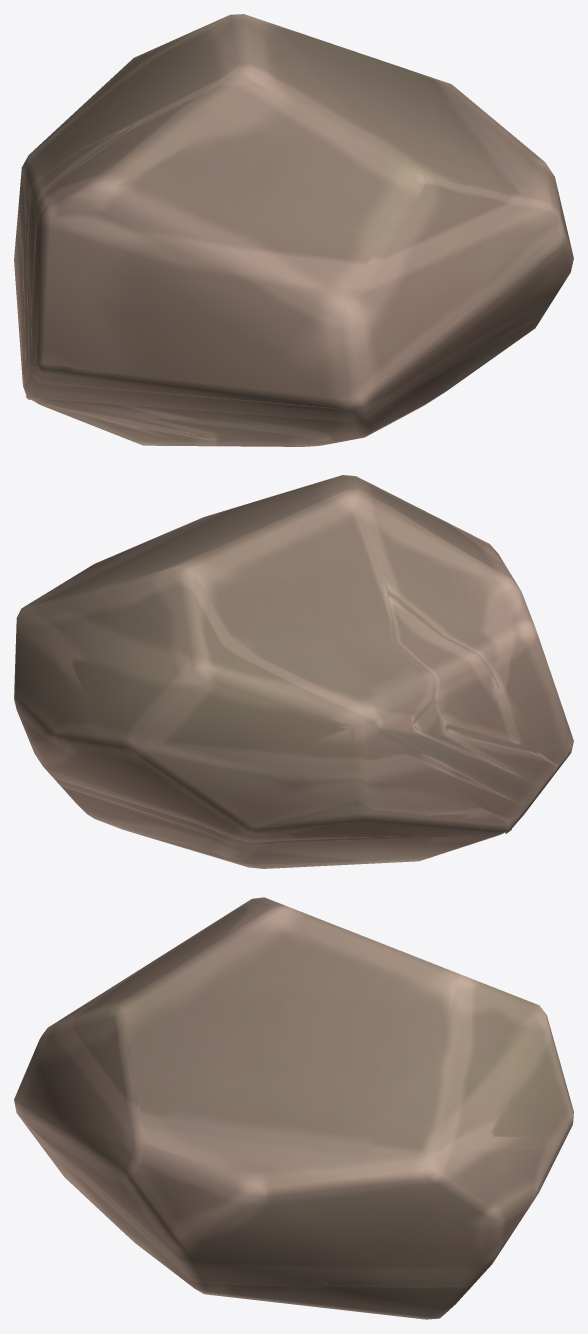
The model's file is rock-brown.glb.
3 renders of one model, top to bottom at view 1: azimuth 30°, elevation 25°; view 2: azimuth 150°, elevation 25°; view 3: azimuth 270°, elevation 25°, orthographic. The views are drawn at different scales.
Visible parts, largest first — view 1: Sphere; view 2: Sphere; view 3: Sphere.
Part boxes in pixels (x1=…): Sphere: x1=14, y1=14, x2=573, y2=446; Sphere: x1=14, y1=475, x2=573, y2=868; Sphere: x1=14, y1=897, x2=573, y2=1319.
Bounding box in the file's own units: 2.61 × 1.76 × 2.59.
1 material, 1 textured.
